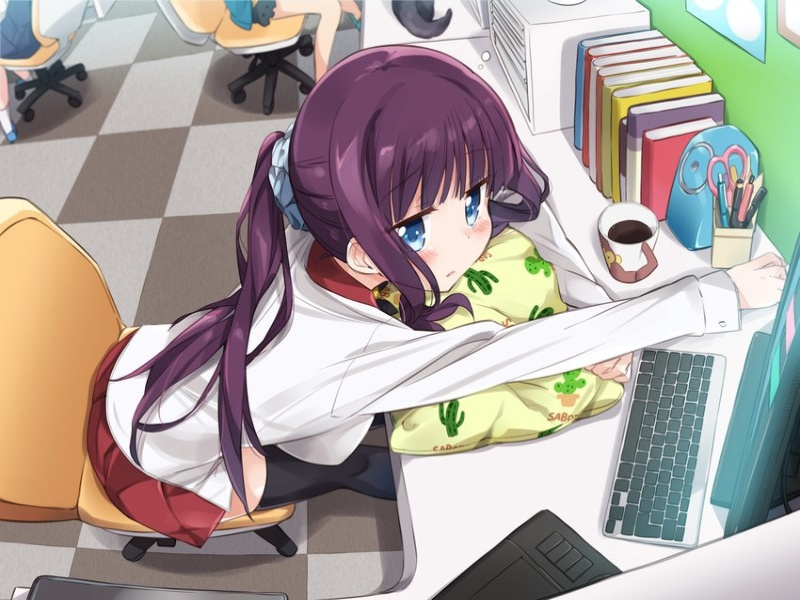cup: (587, 193, 669, 290)
keyboard: (597, 338, 732, 549)
person: (257, 40, 555, 306)
